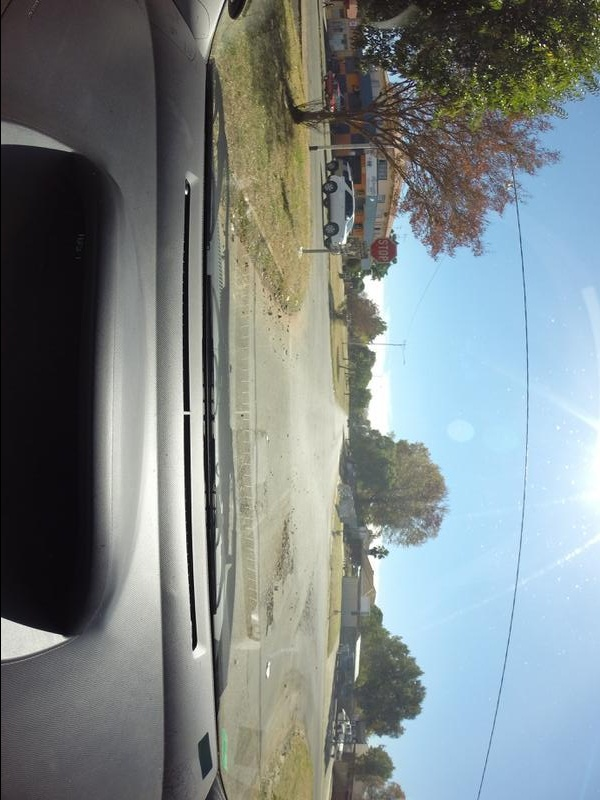pothole: (252, 587, 274, 652), (275, 525, 292, 583)
